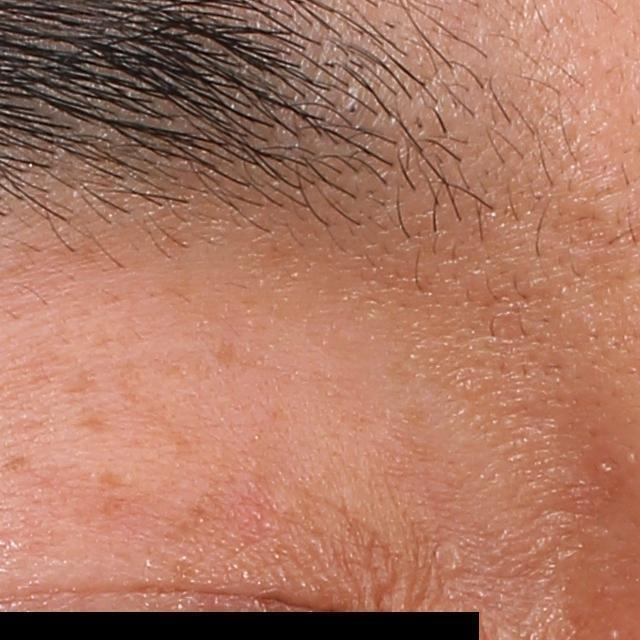melasma: (75, 406, 122, 434), (93, 469, 136, 490), (210, 342, 240, 369)
